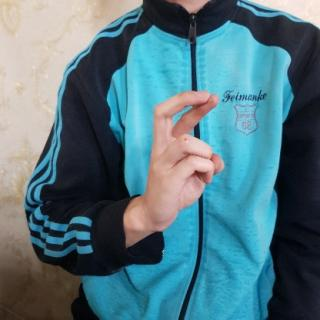ZAY: (144, 86, 224, 236)
